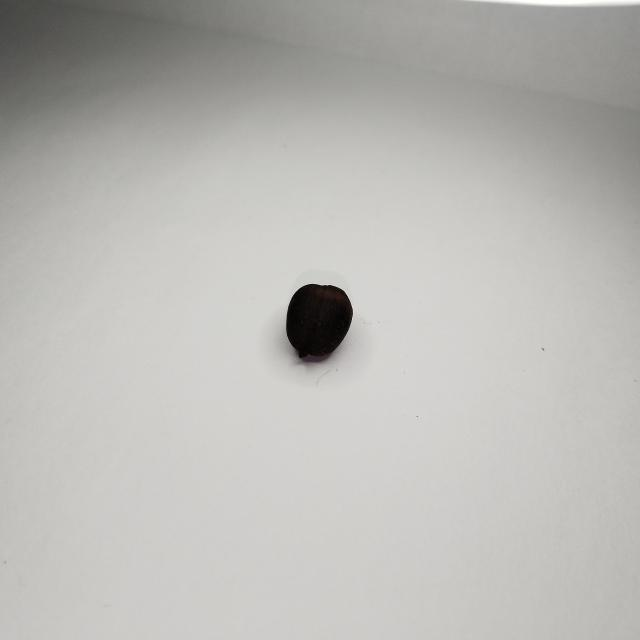Danado: (286, 283, 352, 362)
